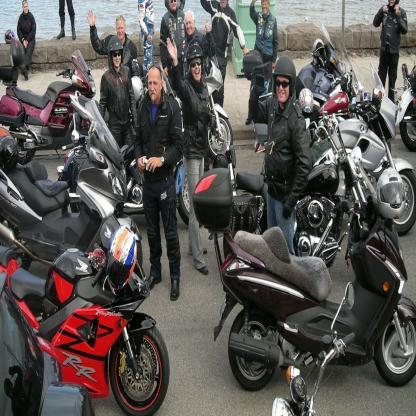helmet: (105, 225, 138, 291), (376, 168, 406, 220), (272, 56, 297, 102), (186, 38, 204, 81), (109, 36, 124, 68), (311, 39, 327, 67)
nohelmet: (146, 67, 163, 102), (184, 9, 196, 36), (115, 16, 126, 40), (260, 0, 270, 15), (22, 0, 30, 15)
